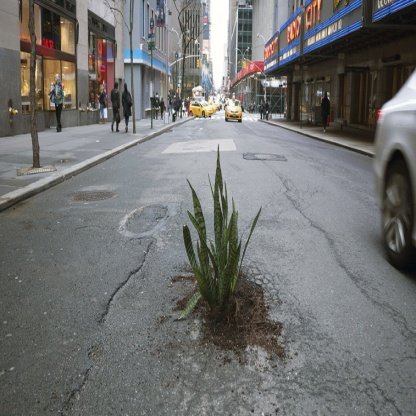pothole: (203, 281, 277, 359)
